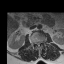CCS_normal: (37, 40, 39, 49)
LFS_stenosis: (41, 39, 43, 45)
LLS_stenosis: (39, 39, 41, 45)
RFS_severe_stenosis: (34, 40, 36, 46)
RLS_stenosis: (36, 40, 37, 46)
